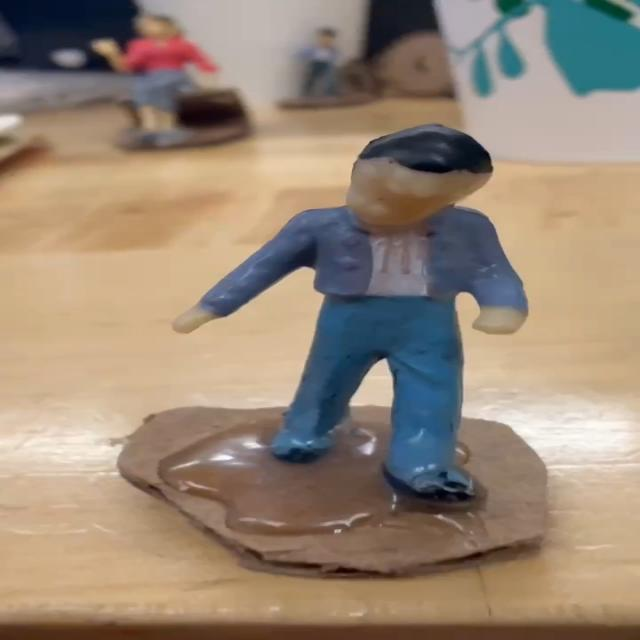Authorized: (176, 81, 568, 508)
